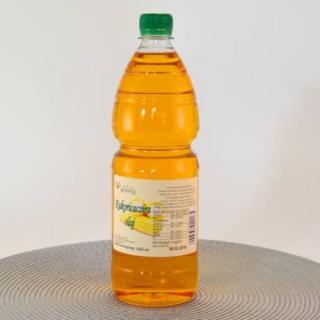Anorganik: (101, 9, 211, 312)
